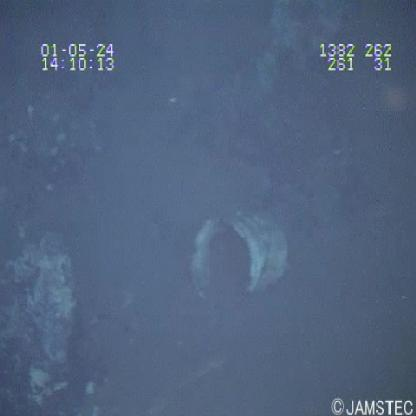Rác: (186, 204, 297, 308)
